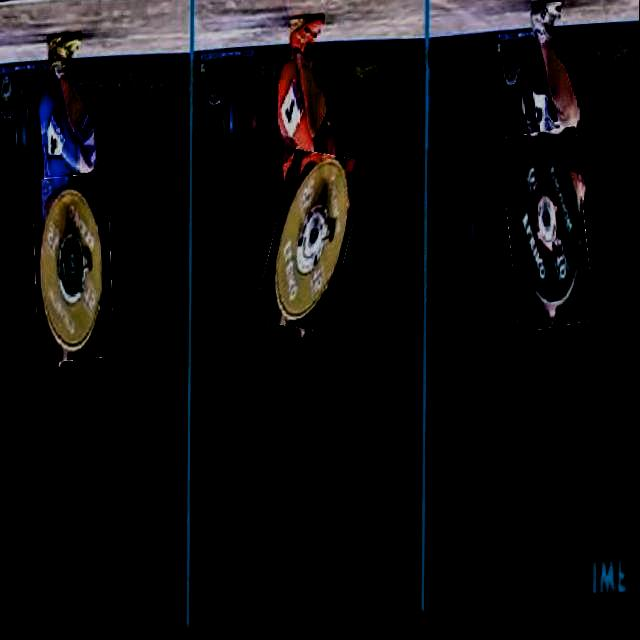barbell: (263, 153, 360, 337), (505, 136, 590, 340), (34, 175, 113, 365)
